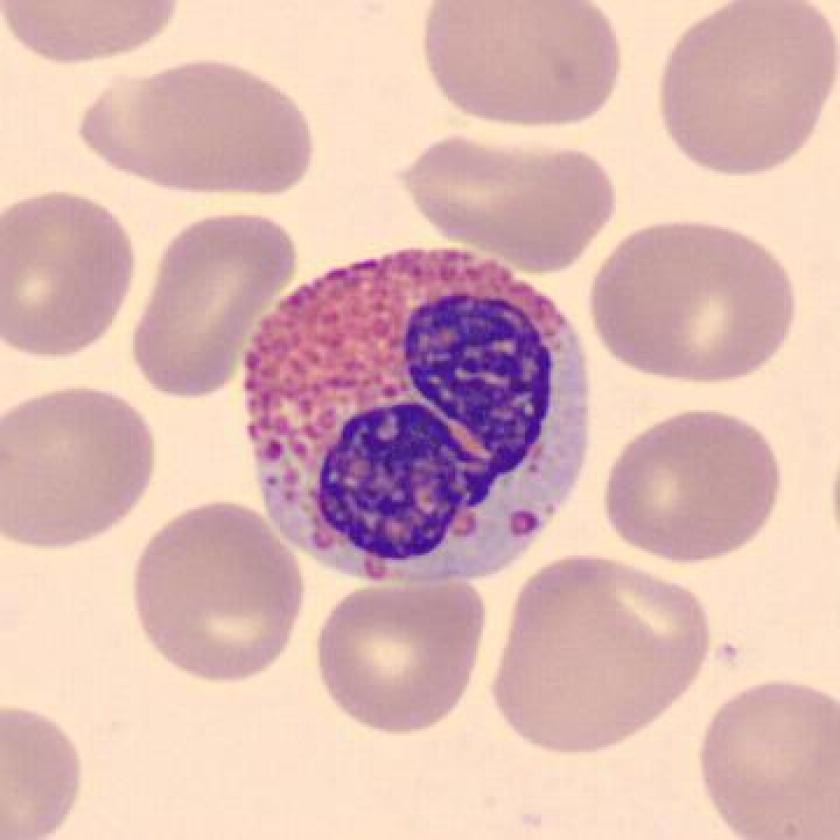eosinophil: (237, 242, 605, 598)
